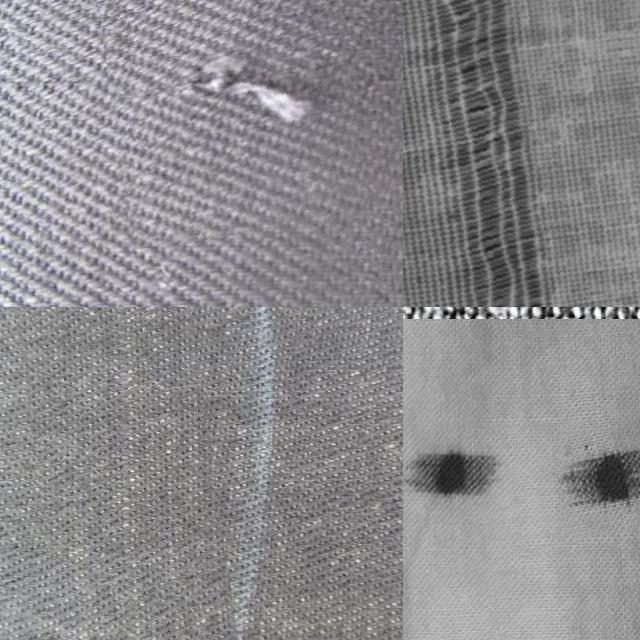Thread_other: (403, 420, 519, 519), (555, 423, 640, 535)
stains: (403, 0, 640, 307), (14, 307, 232, 640), (106, 0, 362, 241)
